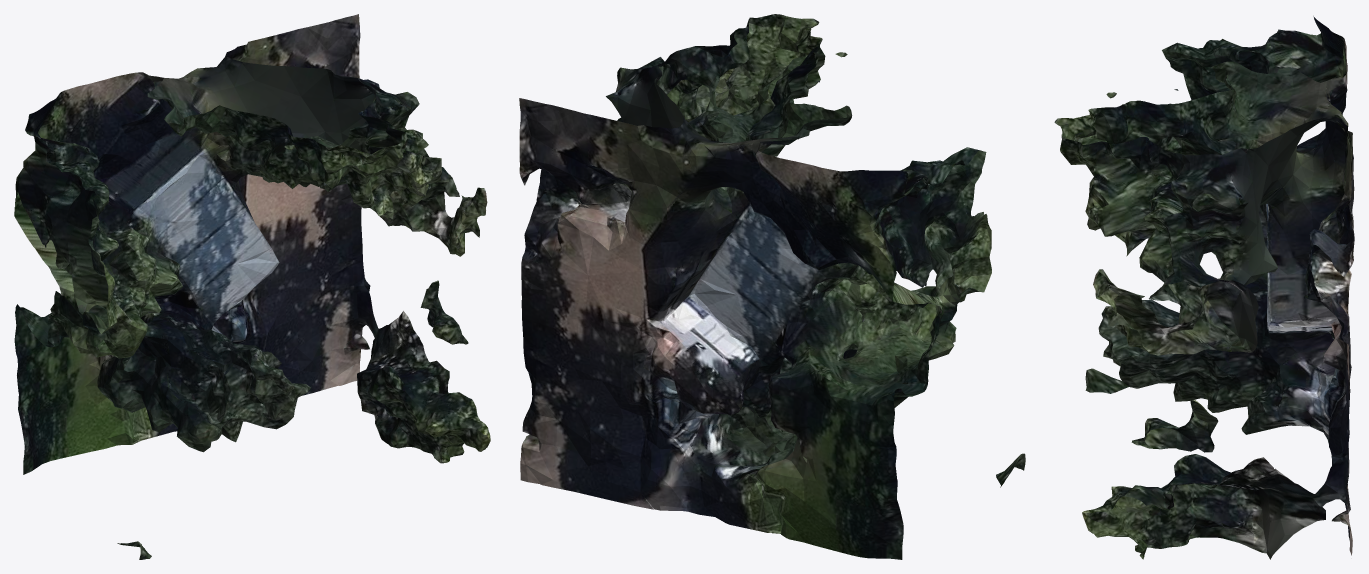
The model's file is Tile_+031_+022_L20_0003220.obj.
3 renders of one model, left to right at view 1: azimuth 30°, elevation 25°; view 2: azimuth 150°, elevation 25°; view 3: azimuth 270°, elevation 25°, orthographic. The views are drawn at different scales.
Size of the model in its own units: 31.5 by 31.38 by 22.98.
Materials: 1 (1 with a texture image).
